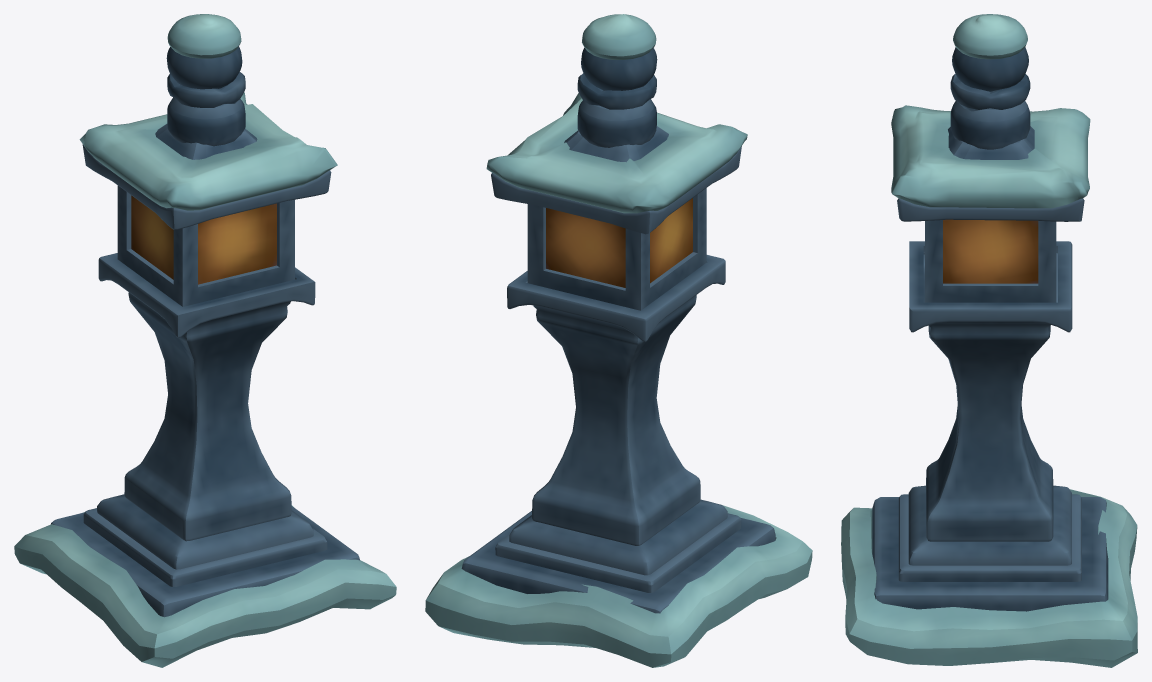
The model's file is SM_Lamp_V2.fbx.
The picture shows the model from 3 angles, left to right: view 1: azimuth 30°, elevation 25°; view 2: azimuth 150°, elevation 25°; view 3: azimuth 270°, elevation 25°; orthographic projection.
Visible parts, largest first — view 1: SM_Lamp3, SM_SnowLamp3, SM_Lamp2, SM_SnowLamp1, SM_Lamp6, SM_Lamp5, SM_Lamp4, SM_Lamp9, SM_Lamp10, SM_SnowLamp2, SM_Lamp8, SM_Lamp7; view 2: SM_Lamp3, SM_SnowLamp3, SM_SnowLamp1, SM_Lamp2, SM_Lamp6, SM_Lamp5, SM_Lamp4, SM_Lamp9, SM_Lamp10, SM_SnowLamp2, SM_Lamp8, SM_Lamp7; view 3: SM_Lamp3, SM_SnowLamp3, SM_SnowLamp1, SM_Lamp2, SM_Lamp6, SM_Lamp5, SM_Lamp4, SM_Lamp9, SM_Lamp10, SM_SnowLamp2, SM_Lamp8, SM_Lamp7.
Part boxes in pixels (left/top/right/bottom): SM_Lamp3: left=124, top=292, right=291, bottom=541; SM_SnowLamp3: left=14, top=505, right=396, bottom=667; SM_Lamp2: left=117, top=185, right=294, bottom=306; SM_SnowLamp1: left=79, top=92, right=337, bottom=210; SM_Lamp6: left=83, top=494, right=327, bottom=586; SM_Lamp5: left=51, top=506, right=359, bottom=617; SM_Lamp4: left=98, top=253, right=315, bottom=337; SM_Lamp9: left=82, top=124, right=331, bottom=229; SM_Lamp10: left=167, top=97, right=245, bottom=146; SM_SnowLamp2: left=167, top=14, right=241, bottom=58; SM_Lamp8: left=166, top=46, right=242, bottom=89; SM_Lamp7: left=167, top=72, right=245, bottom=107; SM_Lamp3: left=532, top=295, right=700, bottom=545; SM_SnowLamp3: left=425, top=504, right=812, bottom=667; SM_SnowLamp1: left=486, top=93, right=747, bottom=213; SM_Lamp2: left=527, top=188, right=706, bottom=310; SM_Lamp6: left=495, top=499, right=741, bottom=592; SM_Lamp5: left=461, top=511, right=775, bottom=613; SM_Lamp4: left=507, top=255, right=725, bottom=341; SM_Lamp9: left=491, top=126, right=741, bottom=234; SM_Lamp10: left=577, top=99, right=656, bottom=147; SM_SnowLamp2: left=582, top=14, right=656, bottom=59; SM_Lamp8: left=581, top=47, right=657, bottom=90; SM_Lamp7: left=577, top=73, right=656, bottom=109; SM_Lamp3: left=923, top=252, right=1057, bottom=541; SM_SnowLamp3: left=841, top=489, right=1137, bottom=667; SM_SnowLamp1: left=891, top=105, right=1090, bottom=208; SM_Lamp2: left=925, top=219, right=1056, bottom=302; SM_Lamp6: left=898, top=485, right=1081, bottom=581; SM_Lamp5: left=872, top=497, right=1108, bottom=611; SM_Lamp4: left=909, top=241, right=1072, bottom=332; SM_Lamp9: left=897, top=126, right=1084, bottom=221; SM_Lamp10: left=950, top=101, right=1030, bottom=149; SM_SnowLamp2: left=953, top=14, right=1027, bottom=59; SM_Lamp8: left=952, top=47, right=1028, bottom=91; SM_Lamp7: left=950, top=74, right=1030, bottom=111.
Size of the model in its own units: 1.11 by 2.46 by 1.1.
